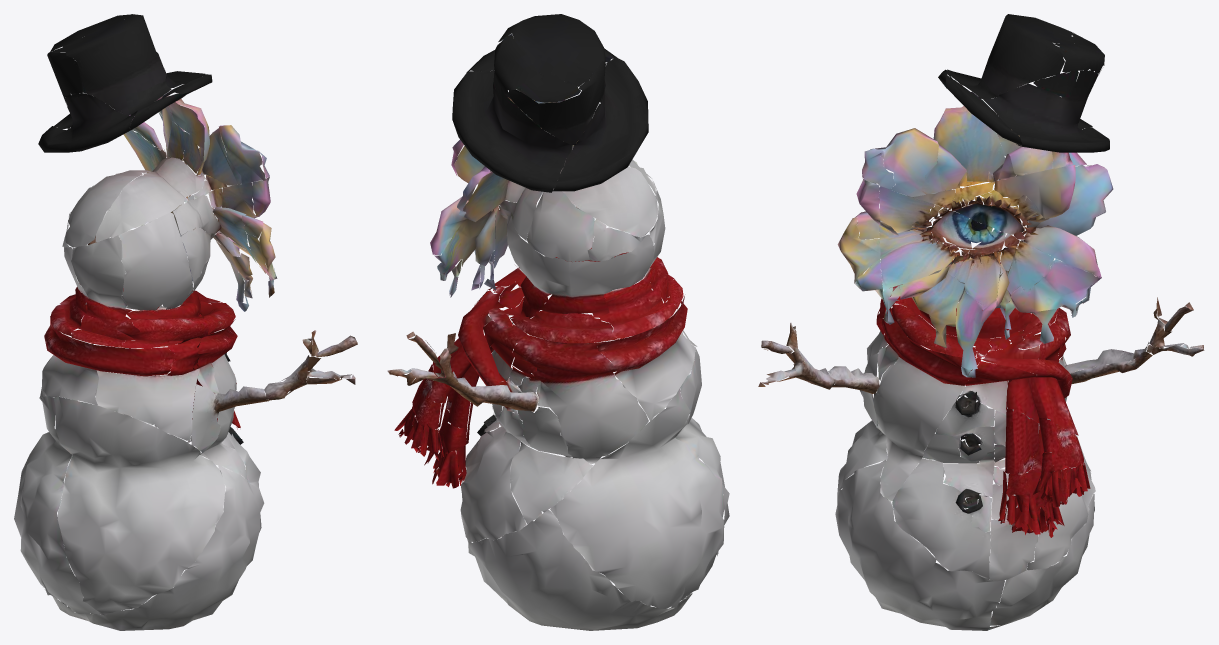
Rendered from lt_snowman.glb.
The picture shows the model from 3 angles, left to right: view 1: azimuth 30°, elevation 25°; view 2: azimuth 150°, elevation 25°; view 3: azimuth 270°, elevation 25°; orthographic projection. The views are drawn at different scales.
Parts seen in each view (by area): view 1: tripo_node_25637a67-20e6-428d-b22e-af55a4c2b29d; view 2: tripo_node_25637a67-20e6-428d-b22e-af55a4c2b29d; view 3: tripo_node_25637a67-20e6-428d-b22e-af55a4c2b29d.
Part boxes in pixels (x1,y1,x2,y2): tripo_node_25637a67-20e6-428d-b22e-af55a4c2b29d: [14, 14, 357, 630]; tripo_node_25637a67-20e6-428d-b22e-af55a4c2b29d: [387, 14, 729, 630]; tripo_node_25637a67-20e6-428d-b22e-af55a4c2b29d: [758, 14, 1204, 630].
Size of the model in its own units: 0.4751 by 1 by 0.7028.
1 material, 1 textured.
